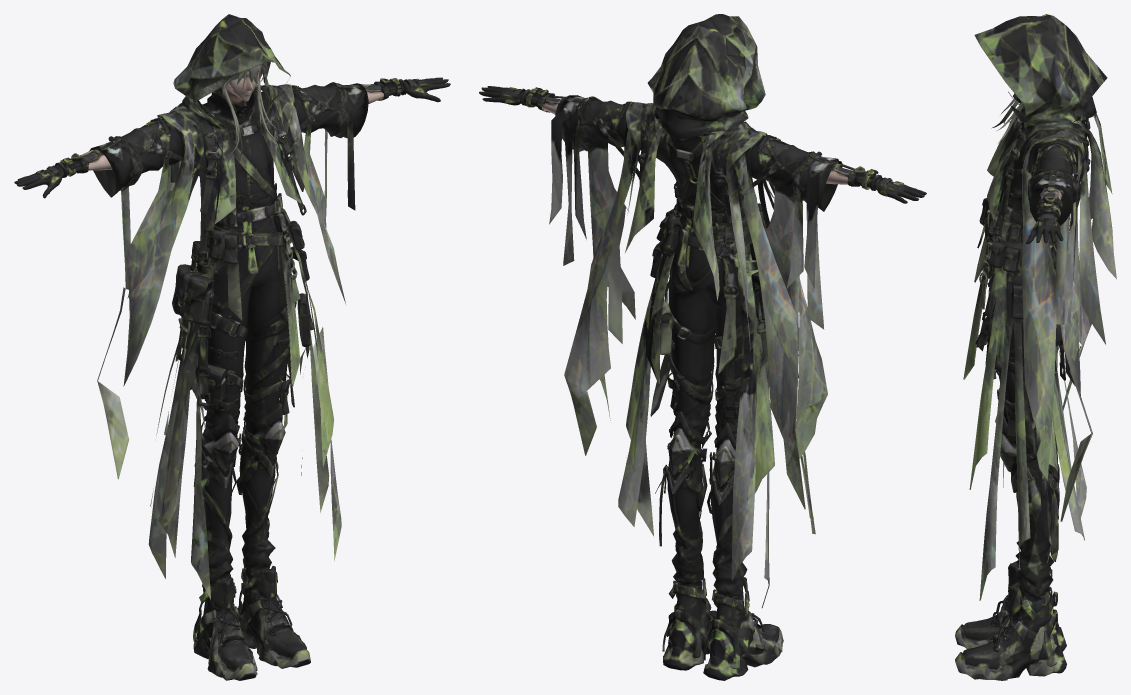
File: pearl.glb
The picture shows the model from 3 angles, left to right: view 1: azimuth 30°, elevation 25°; view 2: azimuth 150°, elevation 25°; view 3: azimuth 270°, elevation 25°; orthographic projection. The views are drawn at different scales.
Visible parts, largest first — view 1: tripo_945ee4e8_60a9_4006_974c_f8d2dced64b7; view 2: tripo_945ee4e8_60a9_4006_974c_f8d2dced64b7; view 3: tripo_945ee4e8_60a9_4006_974c_f8d2dced64b7.
Part boxes in pixels (x1,y1,x2,y2): tripo_945ee4e8_60a9_4006_974c_f8d2dced64b7: (14,14,450,680); tripo_945ee4e8_60a9_4006_974c_f8d2dced64b7: (479,14,926,680); tripo_945ee4e8_60a9_4006_974c_f8d2dced64b7: (955,14,1116,680).
Size of the model in its own units: 0.7183 by 0.9995 by 0.228.
Materials: 1 (1 with a texture image).
